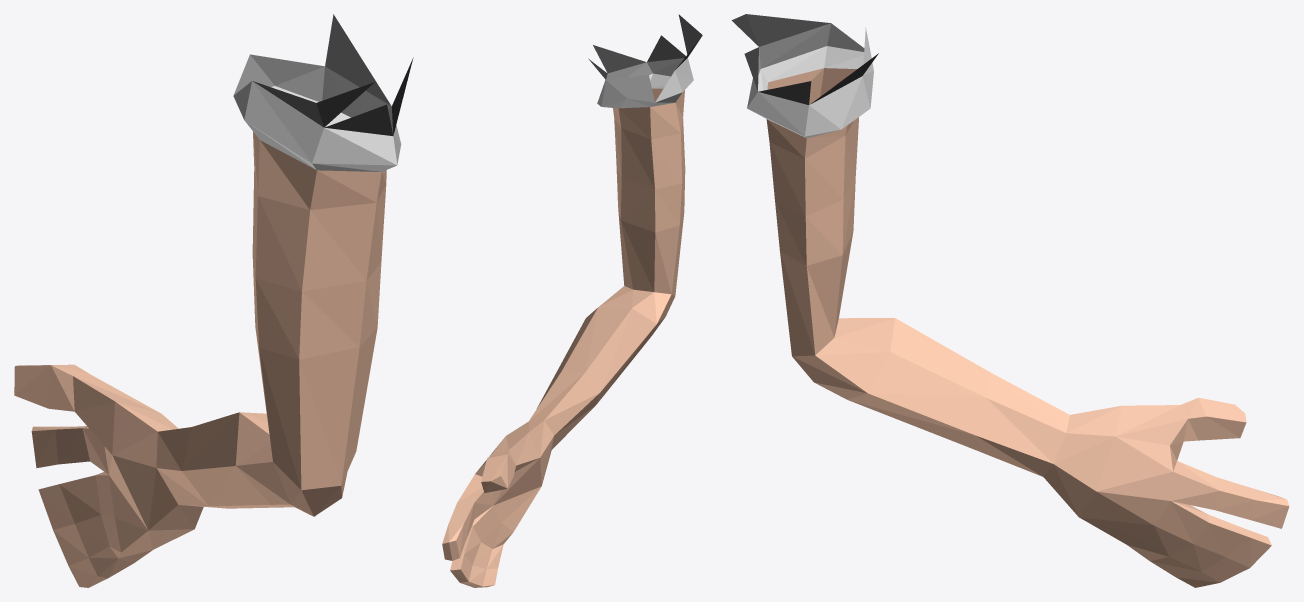
The model's file is Mother_01_04_A_ArmR_64.obj.
The picture shows the model from 3 angles, left to right: view 1: azimuth 30°, elevation 25°; view 2: azimuth 150°, elevation 25°; view 3: azimuth 270°, elevation 25°; orthographic projection. The views are drawn at different scales.
Visible parts, largest first — view 1: Mother_01_04_A_ArmR_64; view 2: Mother_01_04_A_ArmR_64; view 3: Mother_01_04_A_ArmR_64.
Boxes of the visible parts, x1=… form: Mother_01_04_A_ArmR_64: x1=14, y1=14, x2=413, y2=587; Mother_01_04_A_ArmR_64: x1=442, y1=14, x2=702, y2=587; Mother_01_04_A_ArmR_64: x1=732, y1=14, x2=1289, y2=587.
Size of the model in its own units: 0.1419 by 0.6222 by 0.5599.
1 material, 1 textured.
